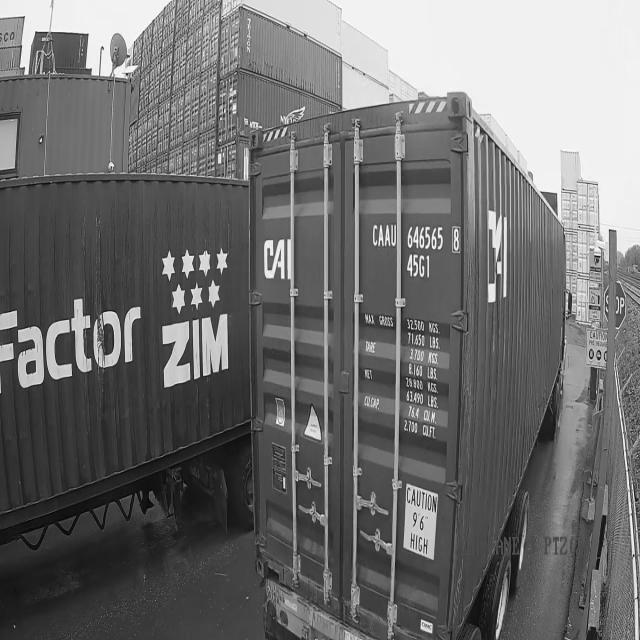container_company_logo: (260, 224, 301, 291)
container_number: (368, 211, 452, 295)
other_container_info: (360, 304, 444, 451)
truck_with_container: (249, 92, 566, 639)
